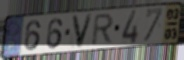4: (121, 9, 141, 45)
6: (24, 19, 42, 51), (46, 18, 64, 50)
7: (144, 7, 164, 44)
R: (90, 12, 116, 47)
V: (71, 13, 94, 50)
